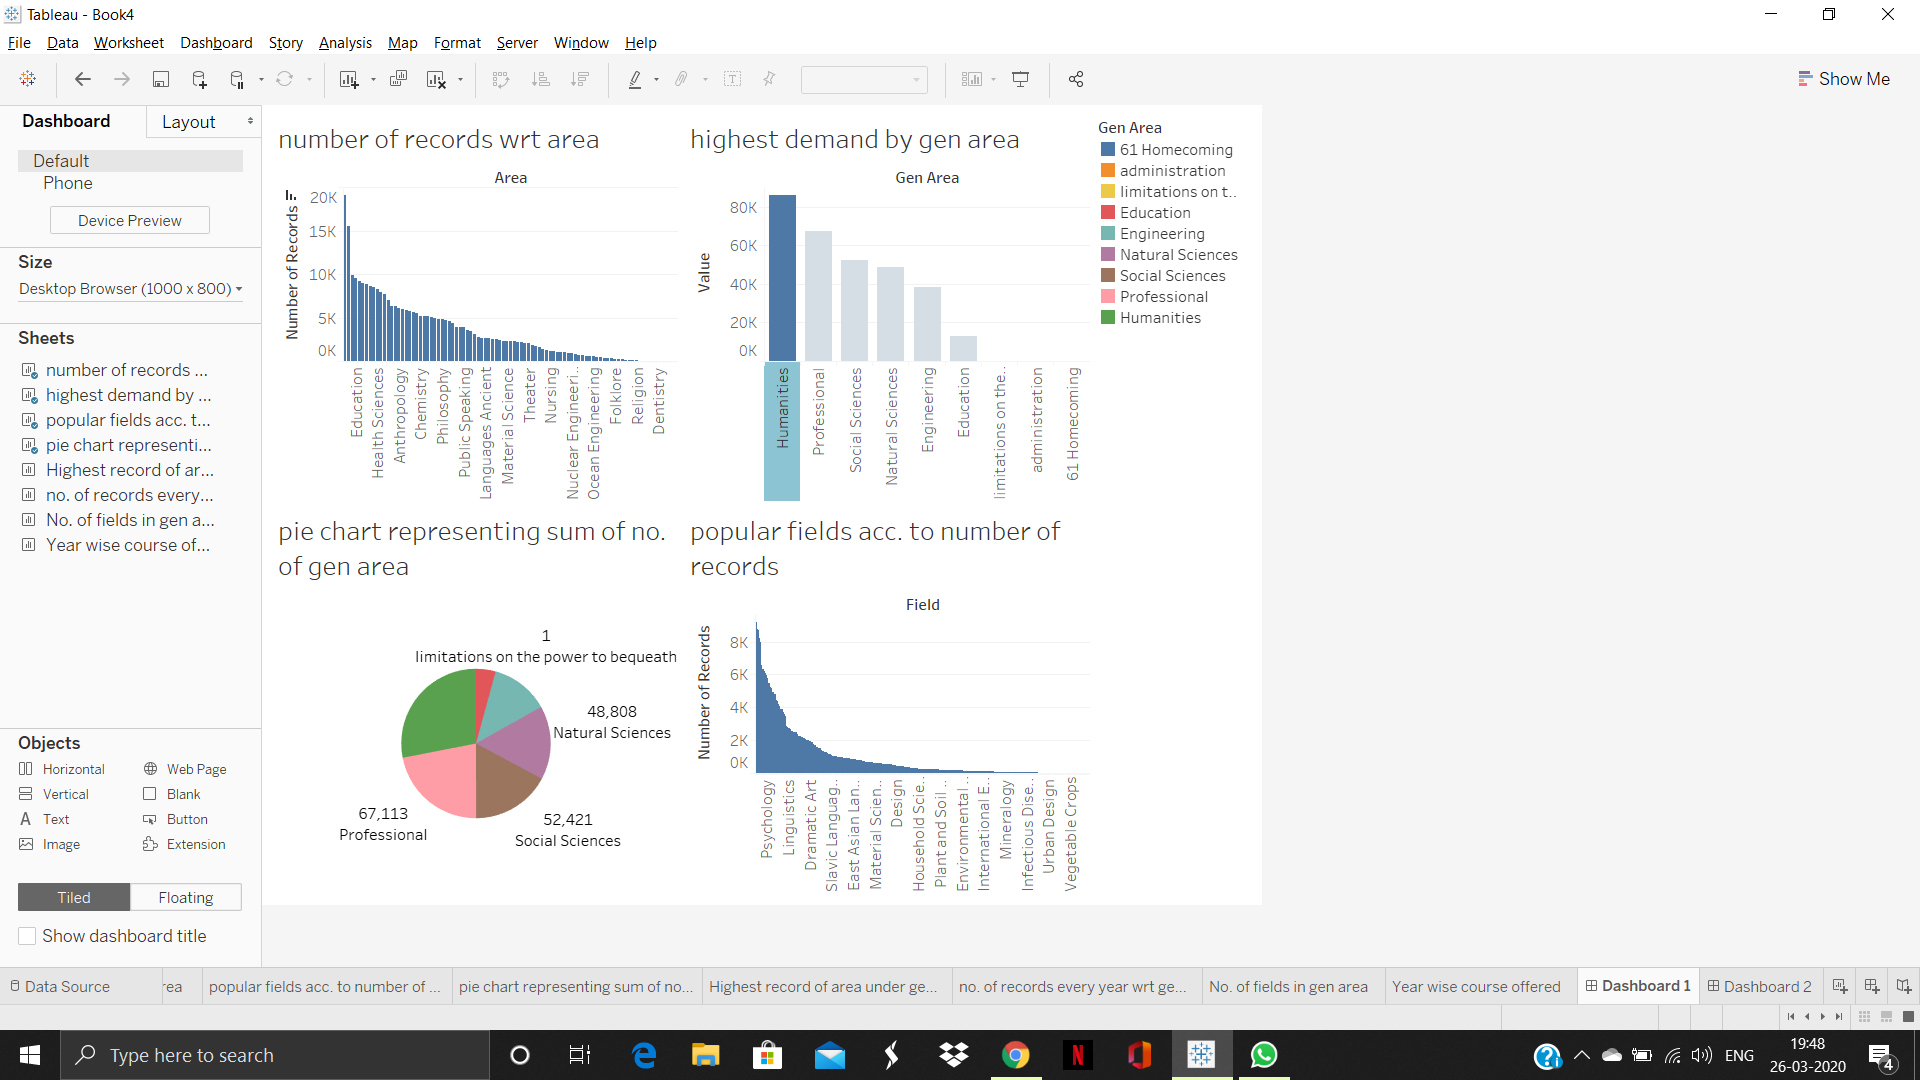

What the dashboard file says about the page in this screenshot:
{"tool":"tableau","page":{"name":"Dashboard 1","canvas":[1000,800],"ordinal":0},"visuals":[{"type":"worksheet","title":"number of records wrt area","mark":"Automatic","rows":["Number of Records"],"cols":["Area"],"box":[8,8,412,392]},{"type":"worksheet","title":"highest demand by gen area ","mark":"Automatic","cols":["GenArea"],"box":[420,8,412,392]},{"type":"legend","title":"pie chart representing sum of no. of gen area ","param":"[federated.02bfpi31rhwnfk19b0wvy003i20q].[none:GenArea:nk]","box":[832,8,160,219]},{"type":"worksheet","title":"pie chart representing sum of no. of gen area ","mark":"Pie","box":[8,400,412,392]},{"type":"worksheet","title":"popular fields acc. to number of records","mark":"Automatic","rows":["Number of Records"],"cols":["Field"],"box":[420,400,412,392]}]}

Visuals, with their boxes on the page's 1000x800 design canvas (x1, y1, x2, y2). These are canvas units, not pixel positions in the 1920x1080 screenshot, which may show the page scaled, cropped or inside an application window:
"number of records wrt area" worksheet: rect(8, 8, 420, 400)
"highest demand by gen area " worksheet: rect(420, 8, 832, 400)
"pie chart representing sum of no. of gen area " legend: rect(832, 8, 992, 227)
"pie chart representing sum of no. of gen area " worksheet (Pie marks): rect(8, 400, 420, 792)
"popular fields acc. to number of records" worksheet: rect(420, 400, 832, 792)
